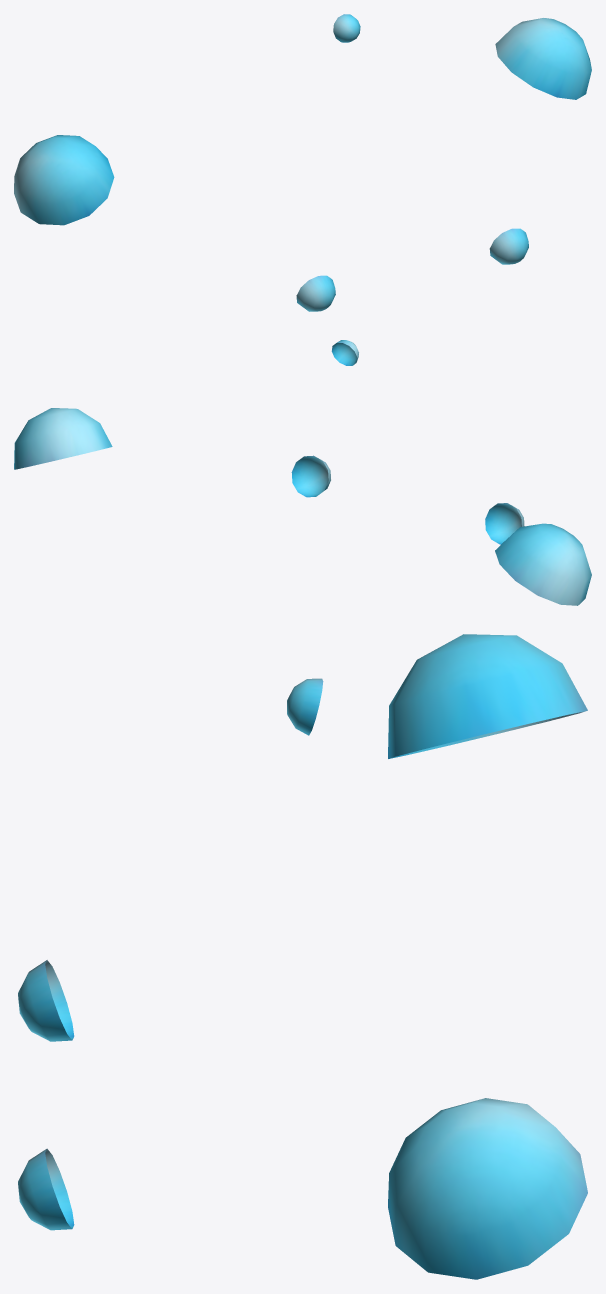
File: crablights.FBX
The picture shows the model from 3 angles, top to bottom: view 1: azimuth 30°, elevation 25°; view 2: azimuth 150°, elevation 25°; view 3: azimuth 270°, elevation 25°; orthographic projection. The views are drawn at different scales.
Parts seen in each view (by area): view 1: crab-lights; view 2: crab-lights; view 3: crab-lights.
Part boxes in pixels (<box>): crab-lights: <box>14,14,591,311</box>; crab-lights: <box>14,340,591,605</box>; crab-lights: <box>18,634,587,1279</box>.
Bounding box in the file's own units: 10.42 × 3.96 × 4.55.
1 material, 1 textured.
